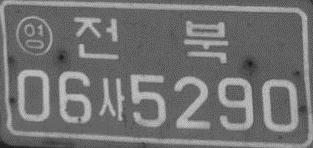0: (260, 77, 299, 133), (15, 68, 50, 122)
2: (173, 74, 211, 130)
5: (129, 73, 167, 128)
6: (57, 70, 92, 125)
9: (217, 75, 254, 132)
사: (98, 77, 126, 120)
영: (15, 15, 52, 55)
전북_D: (73, 15, 228, 63)
